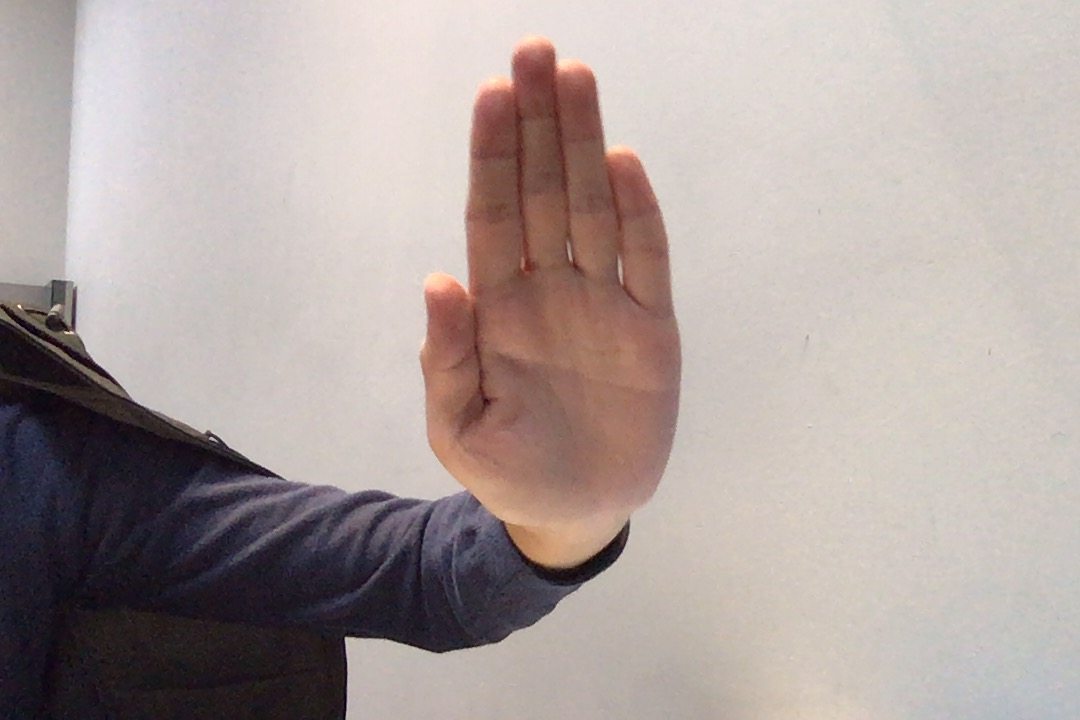palmhand: (398, 23, 709, 542)
